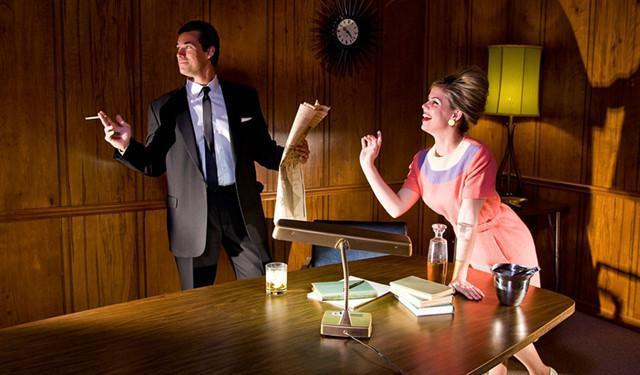SafeDriving: (428, 96, 442, 110)
Smoking: (81, 115, 109, 121)
